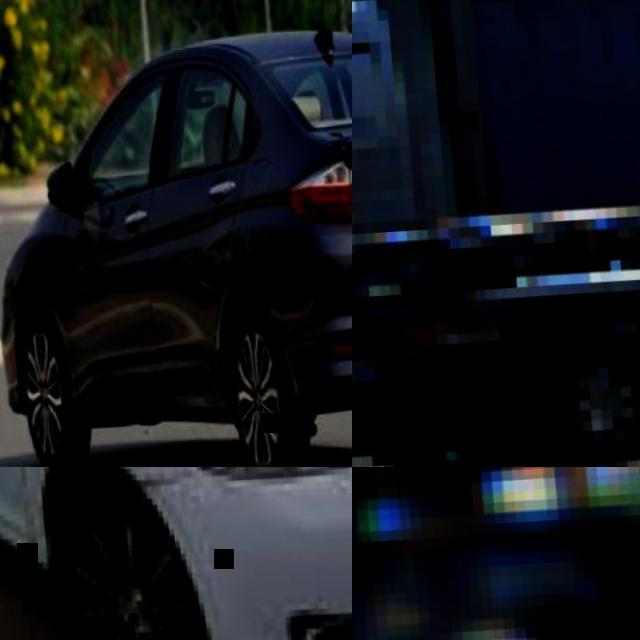car: (6, 293, 274, 633)
